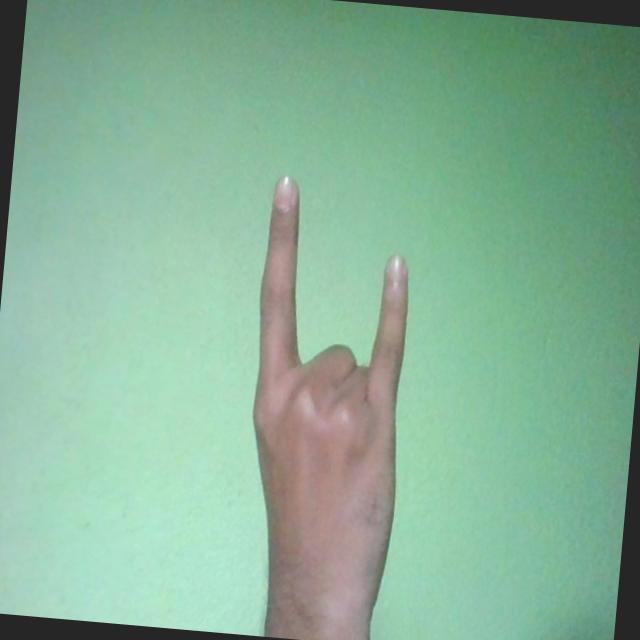open Plam: (230, 171, 423, 640)
